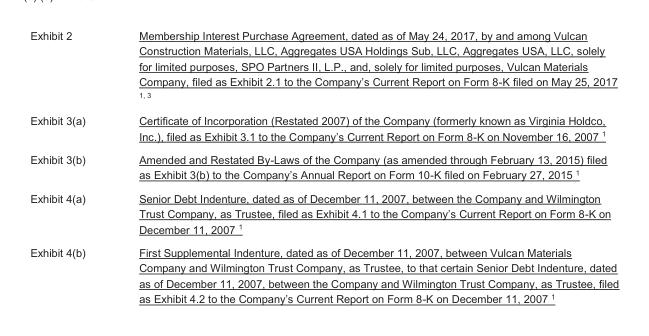table: (29, 28, 618, 304)
table column: (111, 28, 618, 304), (29, 28, 111, 304)
table row: (29, 28, 618, 106), (29, 240, 618, 304), (29, 186, 618, 240), (29, 106, 618, 147), (29, 147, 618, 186)
